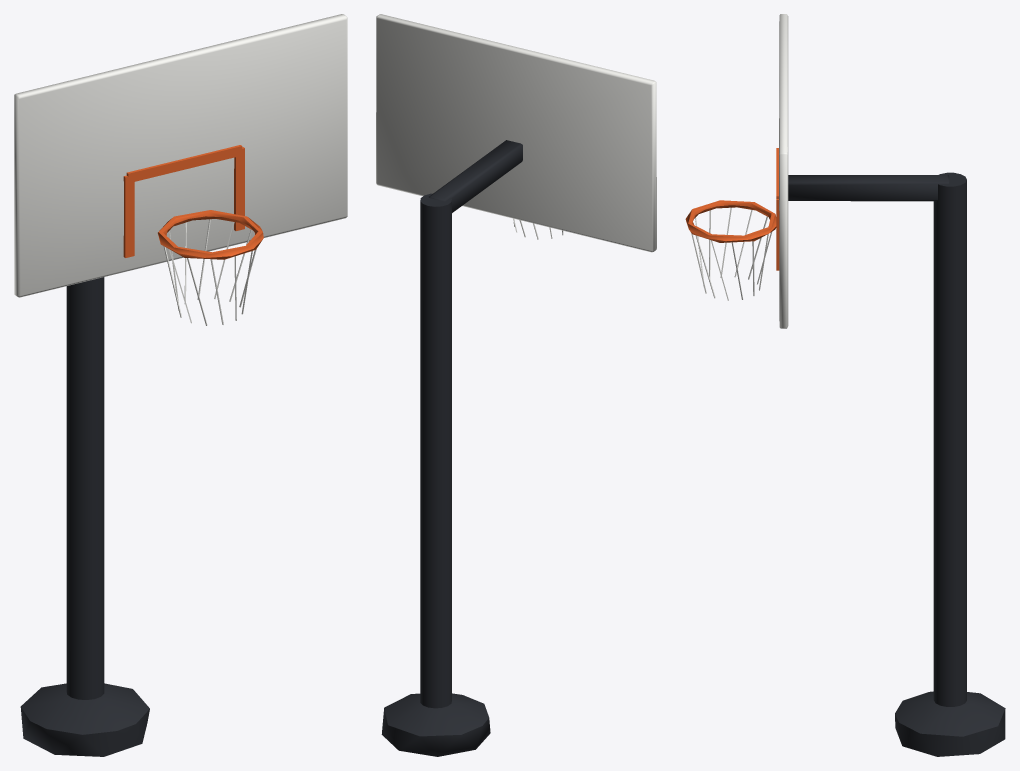
The model's file is tabela-de-basquete-leve.glb.
3 renders of one model, left to right at view 1: azimuth 30°, elevation 25°; view 2: azimuth 150°, elevation 25°; view 3: azimuth 270°, elevation 25°, orthographic. The views are drawn at different scales.
Visible parts, largest first — view 1: tabela, poste, base, aro, quadrado, quadrado-lado, quadrado-lado.001; view 2: tabela, poste, base, braco; view 3: poste, base, braco, tabela, aro.
Part boxes in pixels (x1,y1,x2,y2): tabela: (14,14,347,297); poste: (66,277,104,699); base: (20,683,149,756); aro: (157,210,263,259); quadrado: (126,145,242,182); quadrado-lado: (123,175,134,257); quadrado-lado.001: (234,147,244,230); tabela: (376,14,656,252); poste: (420,193,451,708); base: (381,693,490,756); braco: (429,140,522,212); poste: (933,172,966,706); base: (895,691,1005,756); braco: (788,175,949,201); tabela: (779,14,788,328); aro: (685,200,776,242).
Size of the model in its own units: 1.79 by 3.87 by 1.73.
